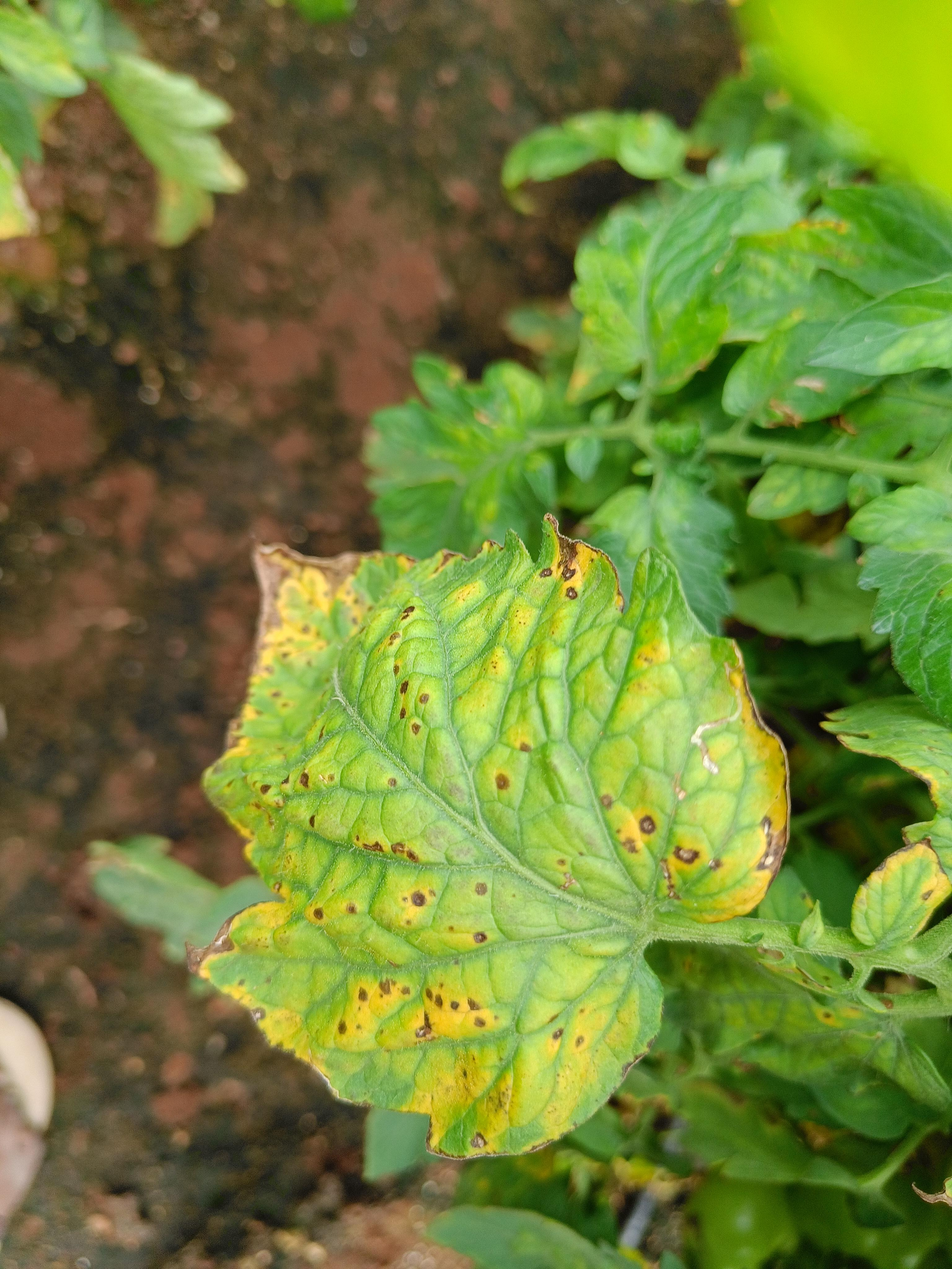Early Blight: (176, 508, 804, 1169), (847, 830, 952, 954)
